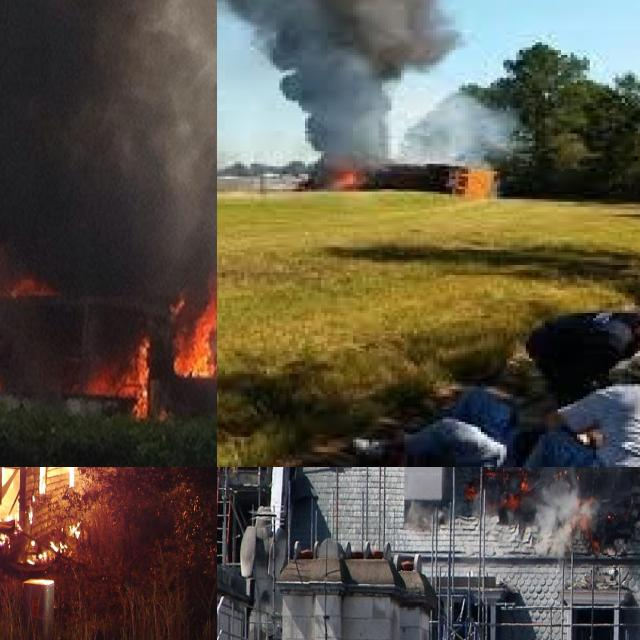fire: (0, 257, 217, 416), (463, 467, 640, 533), (0, 467, 92, 588), (295, 133, 382, 200)
smoke: (0, 0, 217, 351), (225, 0, 452, 166), (456, 93, 520, 156), (530, 486, 584, 554)
